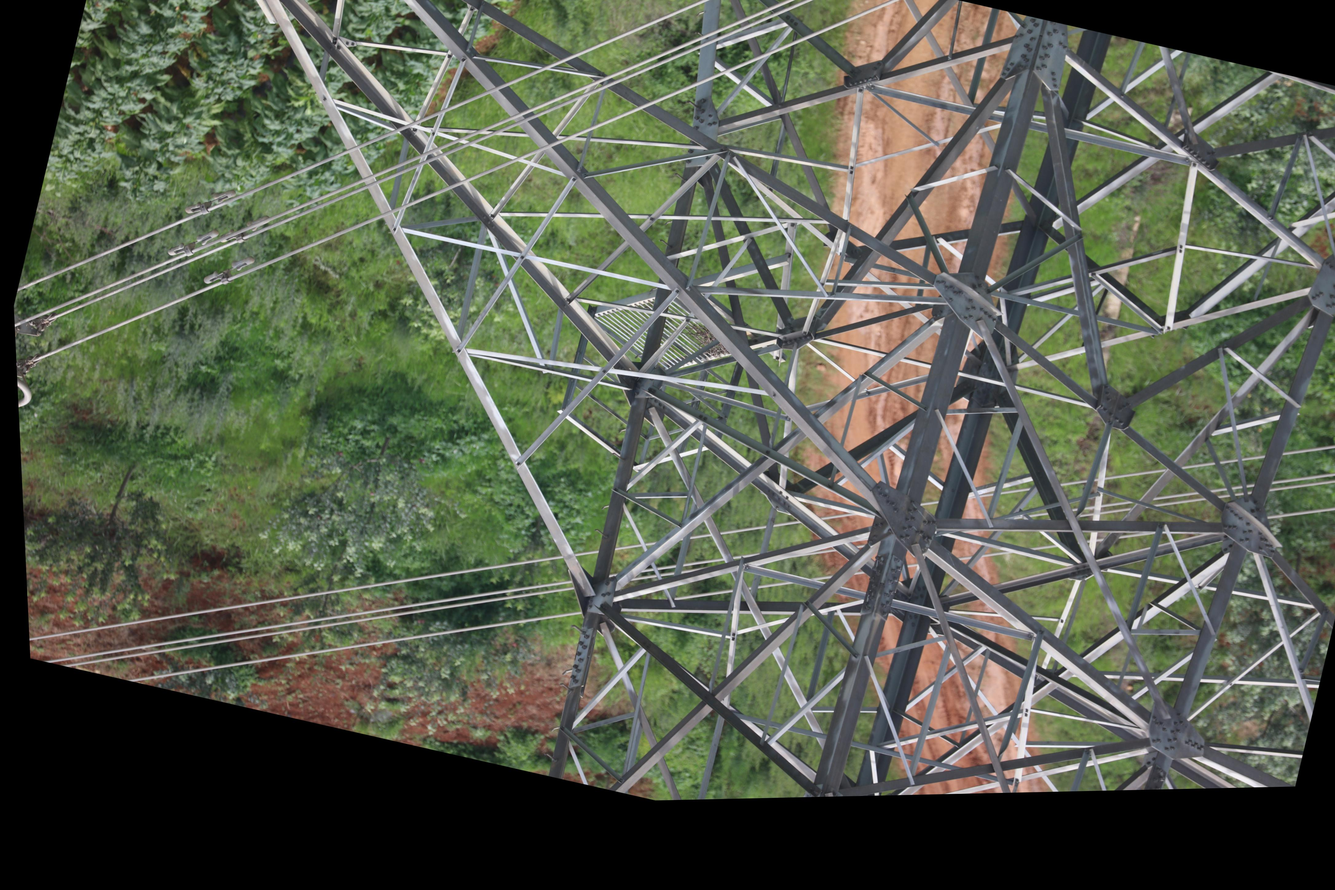damper: (198, 244, 260, 296), (215, 203, 276, 255), (162, 217, 223, 268), (180, 176, 241, 226)
